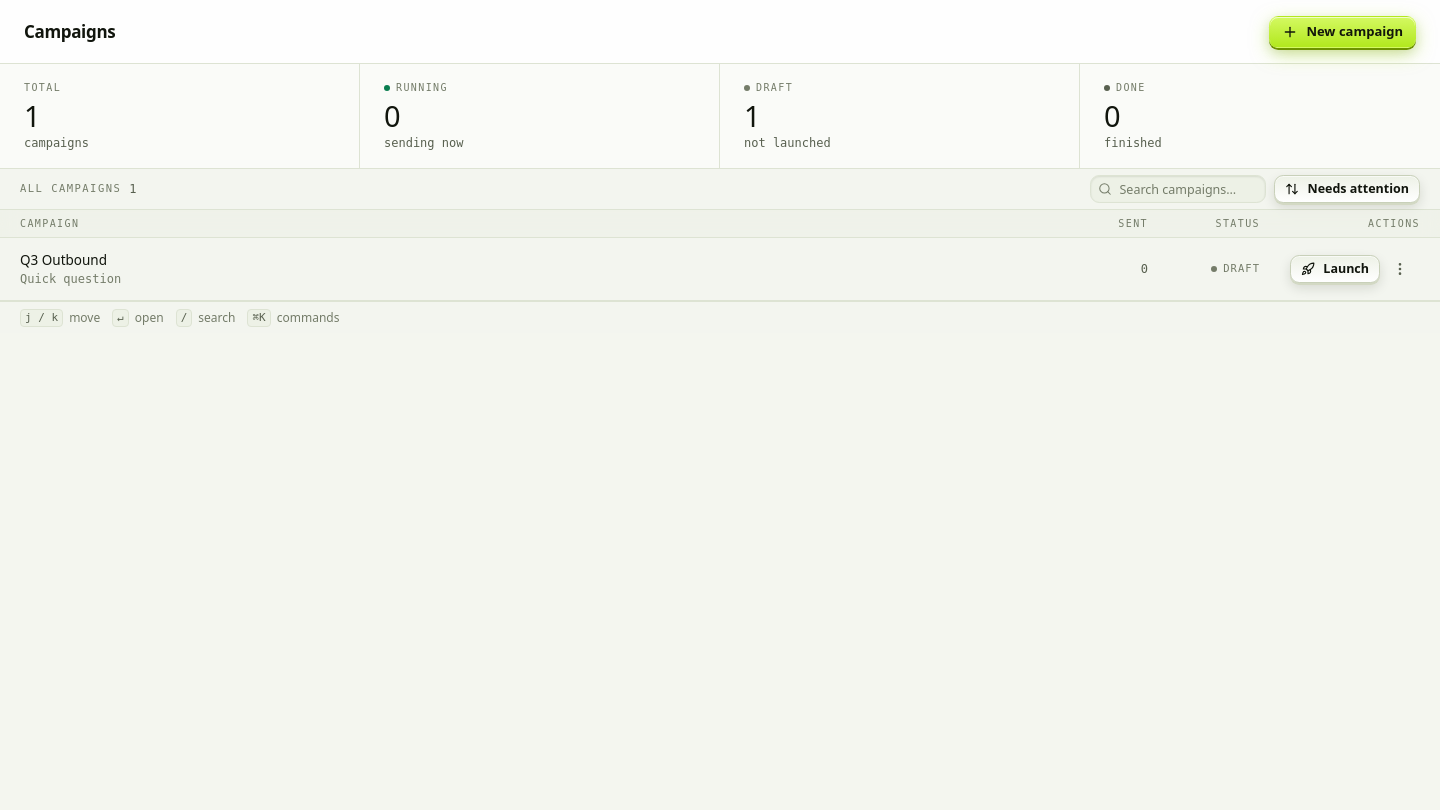
Test: a 403 email_not_verified launch surfaces the verification copy, not "Launch failed."
This screenshot has width=1440, height=810.
Click the button "Launch". click: (1335, 269)
box: [1290,255,1380,283]
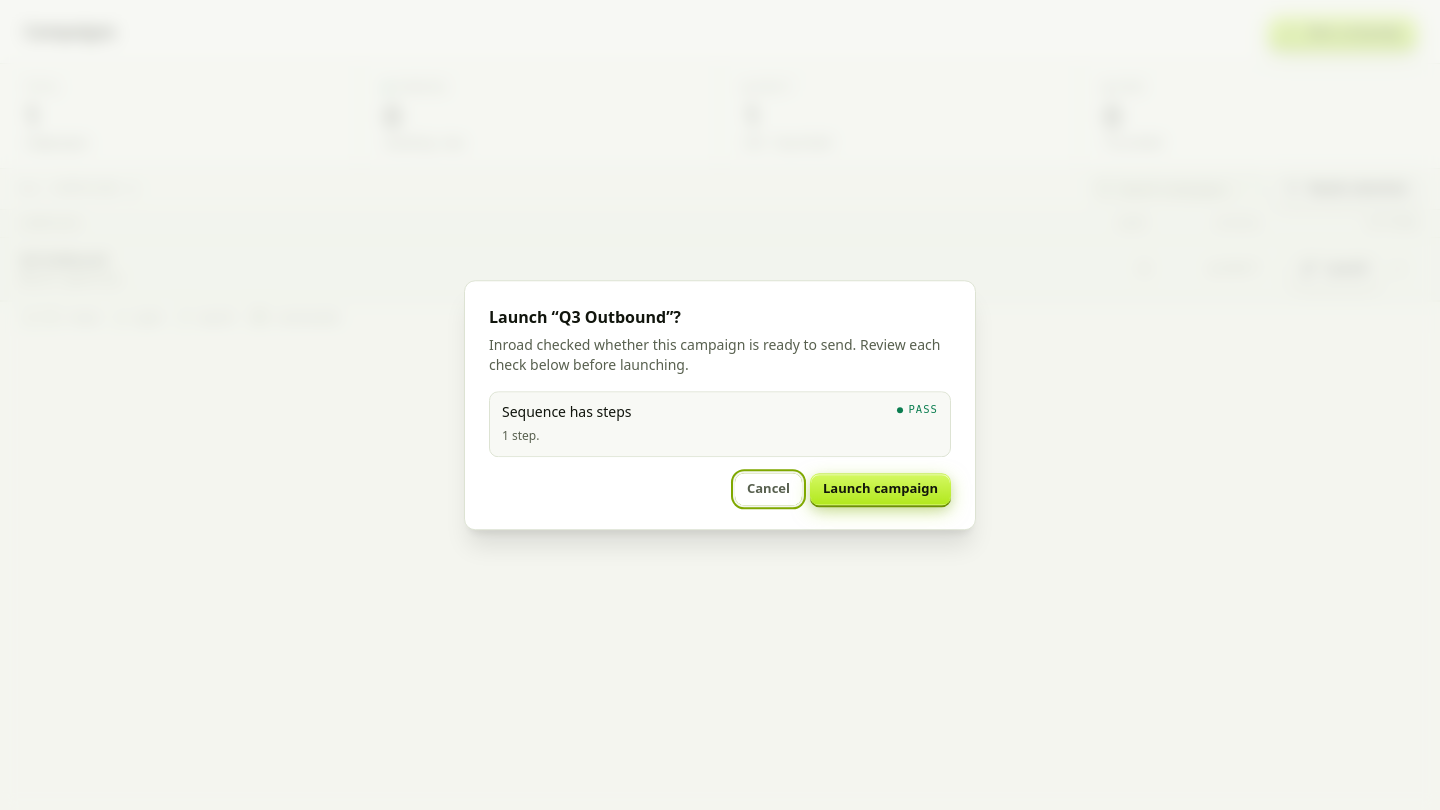
Expected: the button "Launch campaign" is enabled
Click the button "Launch campaign". click: (880, 489)
box: [810,473,951,505]
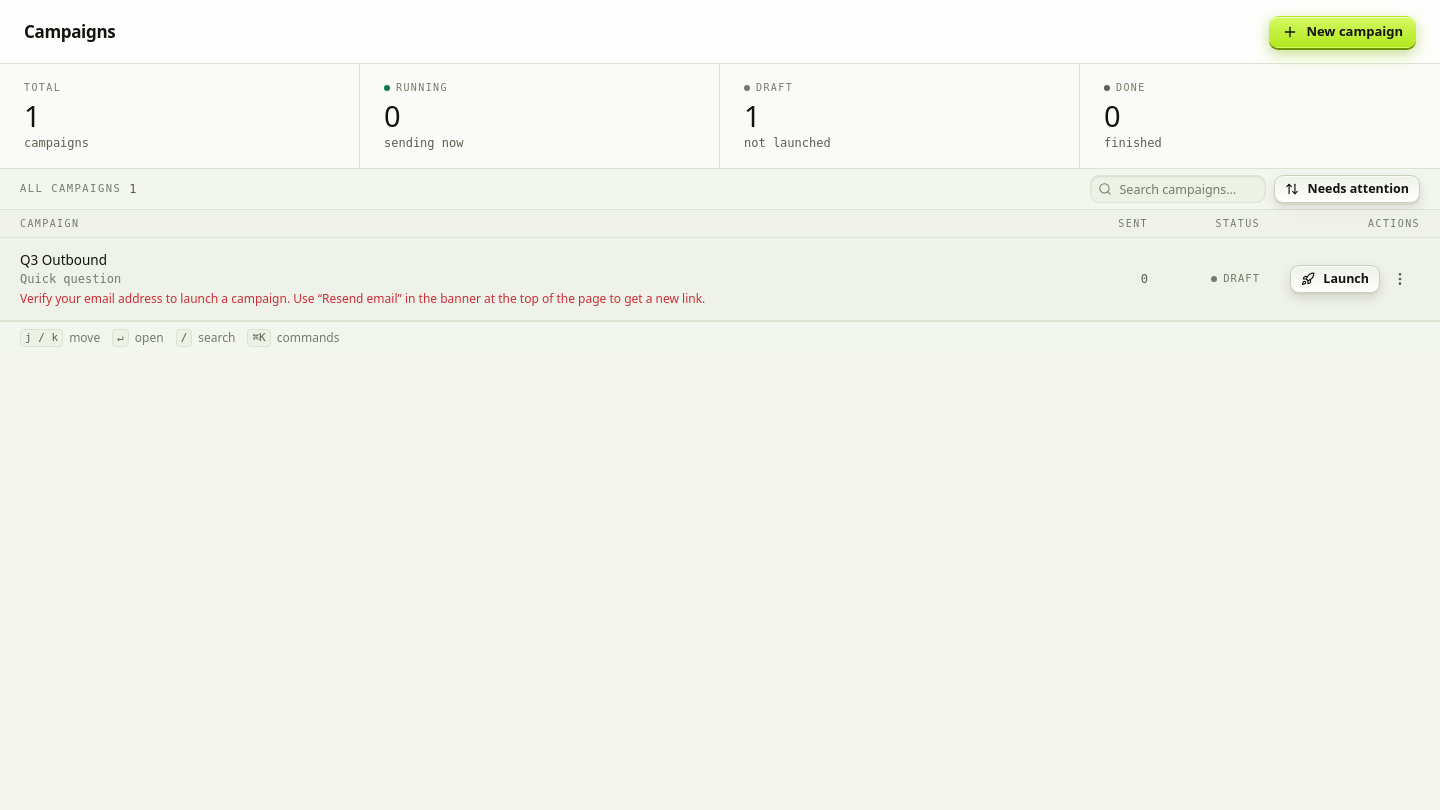
Expected: the message does not show "Launch failed.", [20,290,705,307]
Expected: the message shows "Verify your email address to launch a campaign.", [20,290,705,307]
